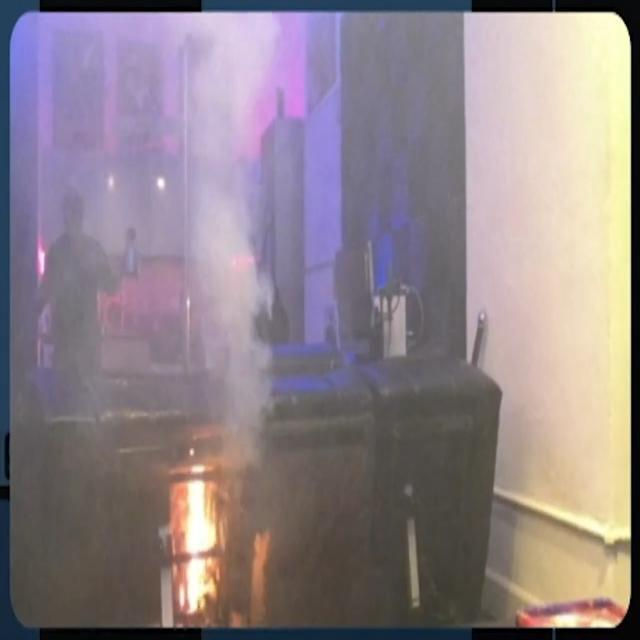Fire: (177, 474, 220, 596)
Smoke: (190, 24, 288, 444)
